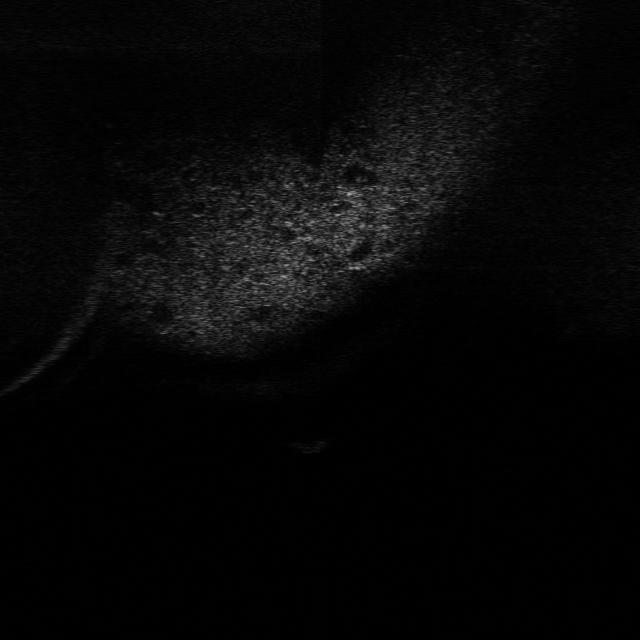cube: (281, 426, 333, 454)
